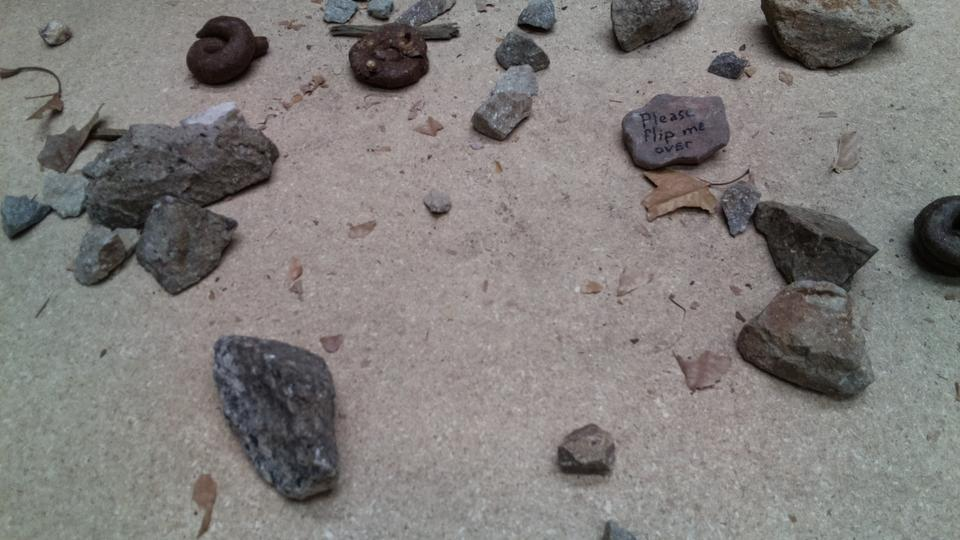poop: (183, 14, 271, 87), (347, 23, 430, 93), (911, 192, 960, 289)
